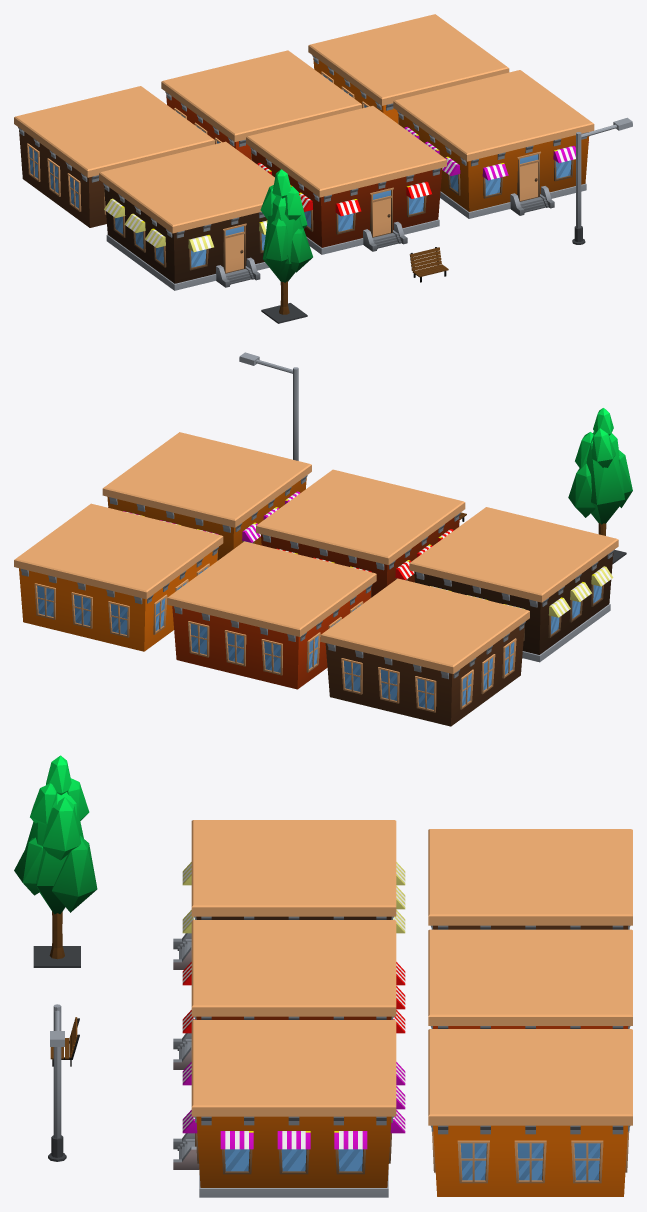
Rendered from CaseProps.fbx.
The picture shows the model from 3 angles, top to bottom: view 1: azimuth 30°, elevation 25°; view 2: azimuth 150°, elevation 25°; view 3: azimuth 270°, elevation 25°; orthographic projection. The views are drawn at different scales.
Parts seen in each view (by area): view 1: PalazzoBase_PianoTerra, PalazzoBaseMarrrone_PianoTerra, PalazzoBaseRosso_PianoTerra, PalazzoBaseMarrrone_PrimoPiano, PalazzoBase_PrimoPiano, PalazzoBaseRosso_PrimoPiano, Albero, Luce, Panchina; view 2: PalazzoBaseMarrrone_PrimoPiano, PalazzoBase_PrimoPiano, PalazzoBaseRosso_PrimoPiano, PalazzoBaseMarrrone_PianoTerra, PalazzoBaseRosso_PianoTerra, PalazzoBase_PianoTerra, Albero, Luce; view 3: PalazzoBase_PianoTerra, PalazzoBase_PrimoPiano, PalazzoBaseRosso_PianoTerra, PalazzoBaseMarrrone_PianoTerra, PalazzoBaseMarrrone_PrimoPiano, PalazzoBaseRosso_PrimoPiano, Albero, Luce.
Boxes of the visible parts, x1=… form: PalazzoBase_PianoTerra: x1=393, y1=70, x2=594, y2=218; PalazzoBaseMarrrone_PianoTerra: x1=99, y1=141, x2=299, y2=290; PalazzoBaseRosso_PianoTerra: x1=246, y1=106, x2=446, y2=254; PalazzoBaseMarrrone_PrimoPiano: x1=14, y1=86, x2=214, y2=227; PalazzoBase_PrimoPiano: x1=308, y1=14, x2=509, y2=124; PalazzoBaseRosso_PrimoPiano: x1=161, y1=50, x2=361, y2=160; Albero: x1=260, y1=169, x2=312, y2=323; Luce: x1=572, y1=117, x2=632, y2=244; Panchina: x1=409, y1=247, x2=448, y2=282; PalazzoBaseMarrrone_PrimoPiano: x1=320, y1=578, x2=529, y2=726; PalazzoBase_PrimoPiano: x1=14, y1=503, x2=223, y2=651; PalazzoBaseRosso_PrimoPiano: x1=167, y1=541, x2=376, y2=689; PalazzoBaseMarrrone_PianoTerra: x1=409, y1=507, x2=618, y2=662; PalazzoBaseRosso_PianoTerra: x1=256, y1=469, x2=465, y2=597; PalazzoBase_PianoTerra: x1=102, y1=432, x2=311, y2=560; Albero: x1=568, y1=408, x2=632, y2=564; Luce: x1=239, y1=352, x2=298, y2=460; PalazzoBase_PianoTerra: x1=173, y1=1020, x2=405, y2=1197; PalazzoBase_PrimoPiano: x1=428, y1=1029, x2=632, y2=1196; PalazzoBaseRosso_PianoTerra: x1=173, y1=920, x2=405, y2=1069; PalazzoBaseMarrrone_PianoTerra: x1=173, y1=820, x2=405, y2=969; PalazzoBaseMarrrone_PrimoPiano: x1=428, y1=829, x2=632, y2=929; PalazzoBaseRosso_PrimoPiano: x1=428, y1=929, x2=632, y2=1028; Albero: x1=14, y1=755, x2=97, y2=967; Luce: x1=48, y1=1004, x2=66, y2=1161.
Size of the model in its own units: 29.41 by 9.39 by 26.16.
